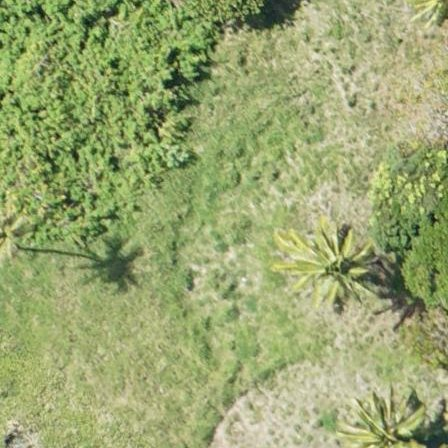palm_tree: (287, 227, 373, 307), (338, 388, 423, 448), (415, 1, 448, 27)
